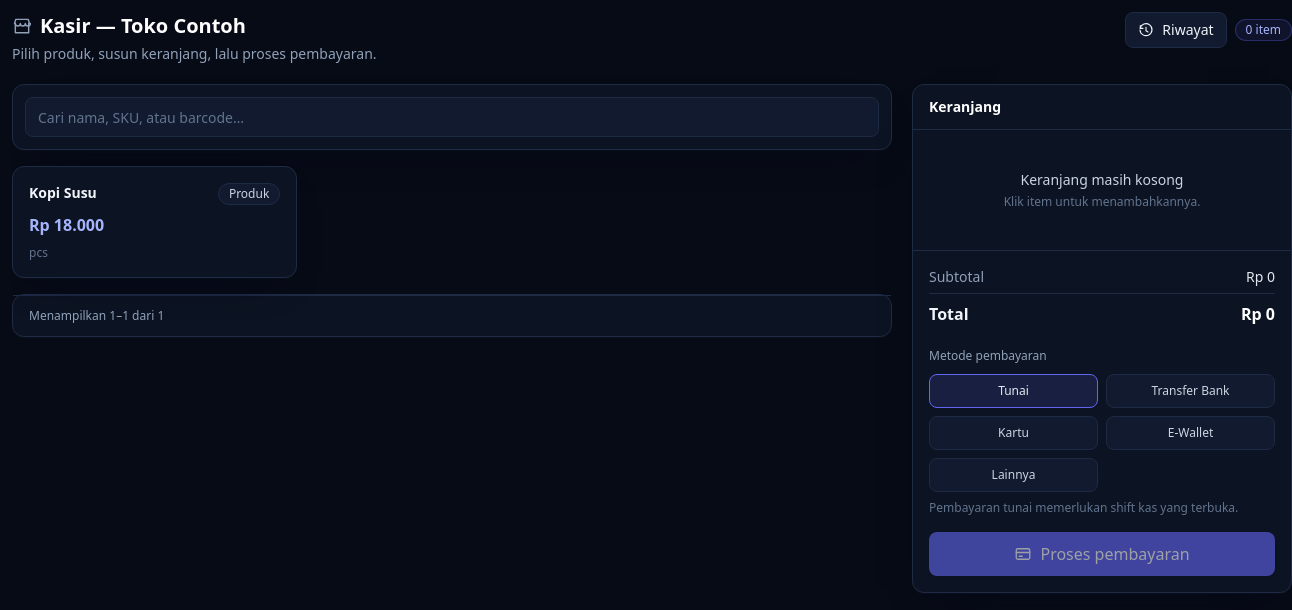
Test: PosPage › increments, decrements and removes cart lines
Click the button "Kopi Susu Produk Rp 18.000 pcs".
click(63, 192)  # box [12,166,297,278]
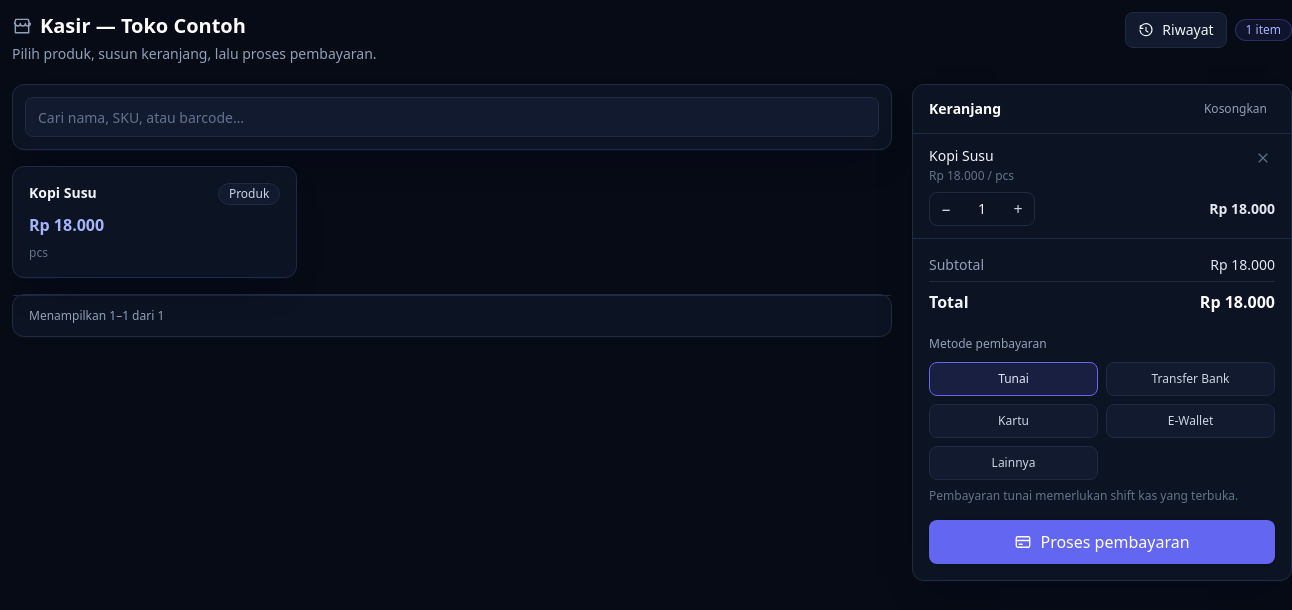
Click the button named "Tambah Kopi Susu".
click(1018, 209)  # box [1002,193,1034,225]
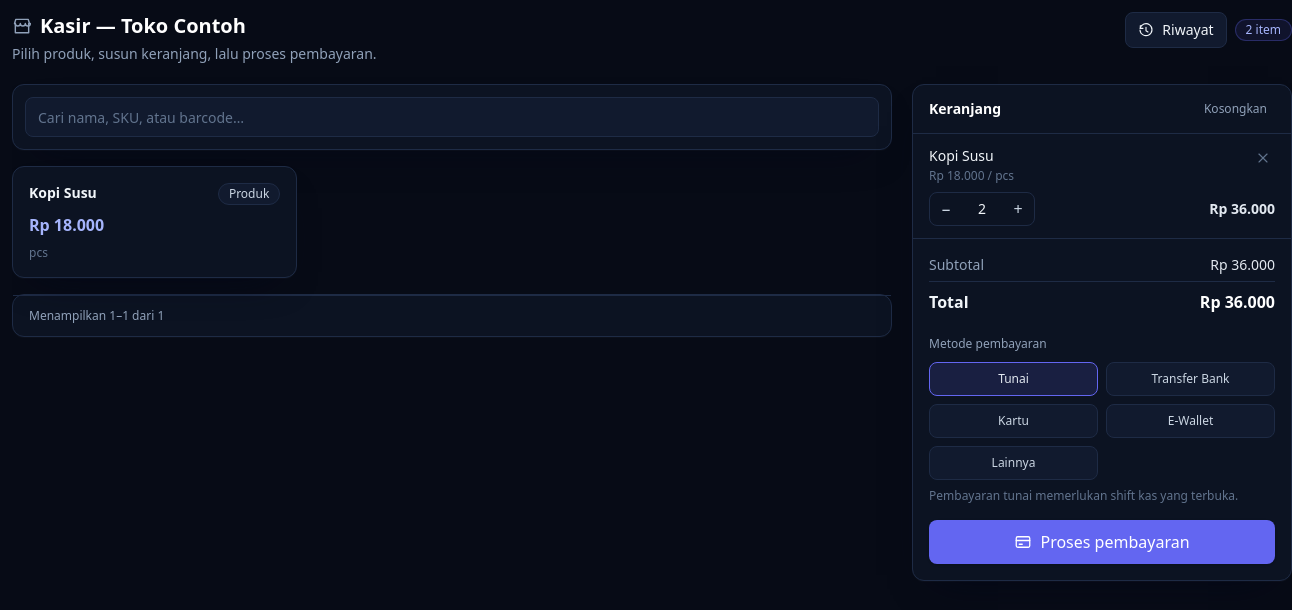
Expected: the text "2 item" is shown, [1235,19,1291,41]
Click the button named "Kurangi Kopi Susu".
click(946, 209)  # box [930,193,962,225]
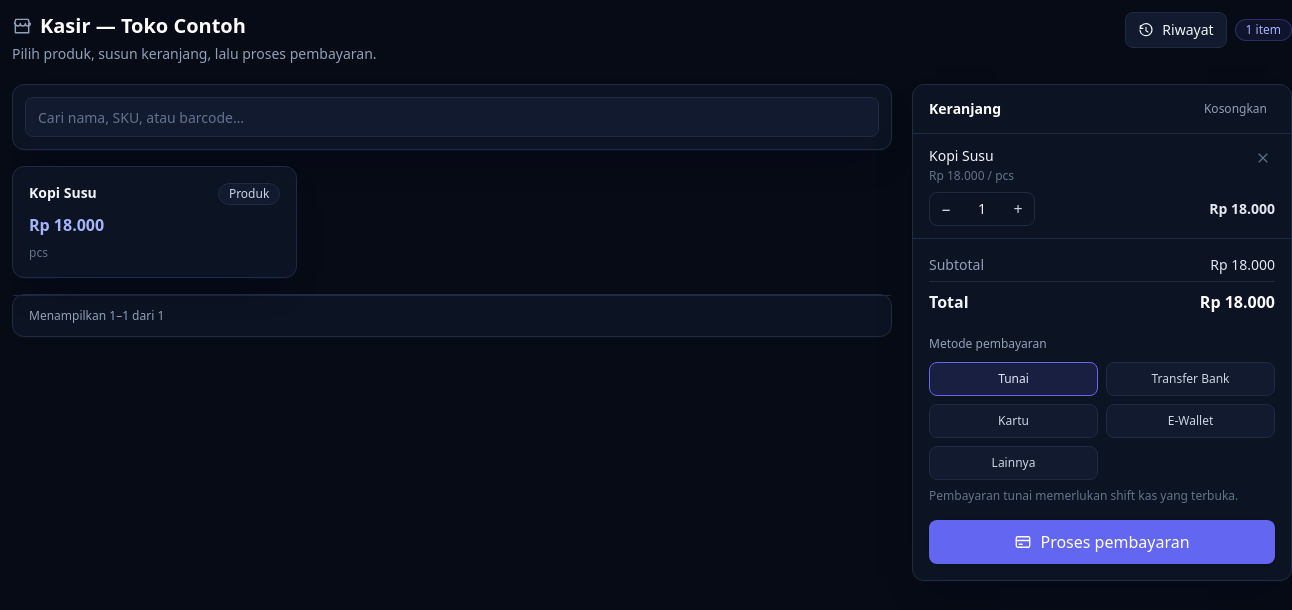
Click the button named "Kurangi Kopi Susu".
click(946, 209)  # box [930,193,962,225]
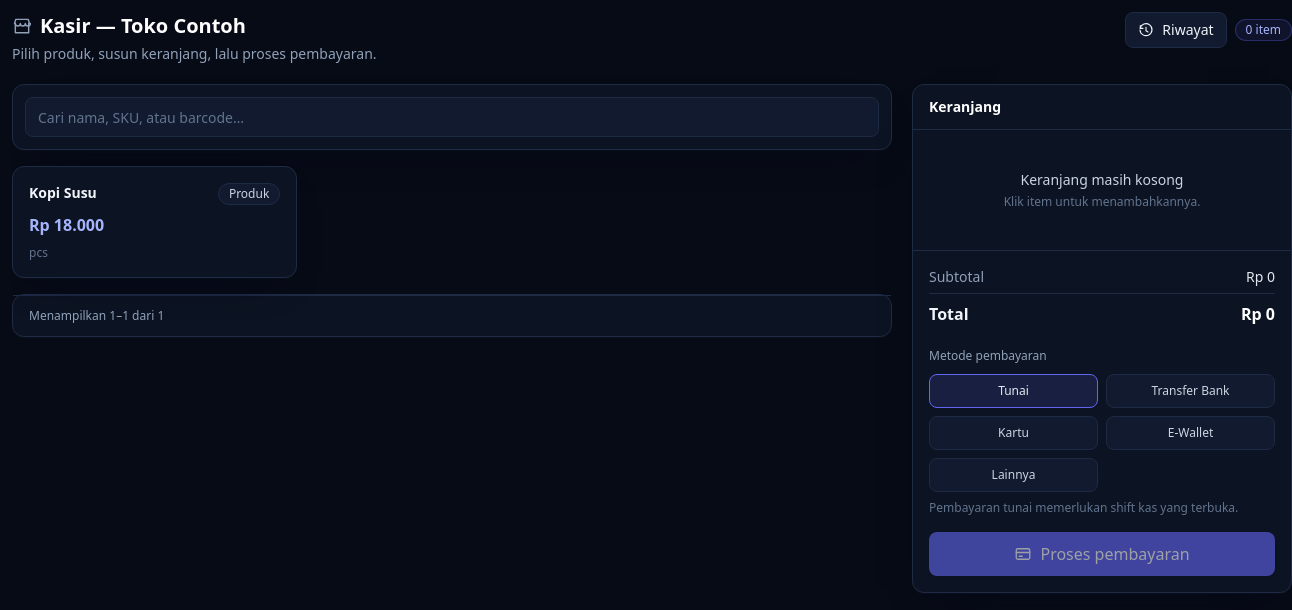
Expected: the text "Keranjang masih kosong" is shown, [1020,170,1183,189]
